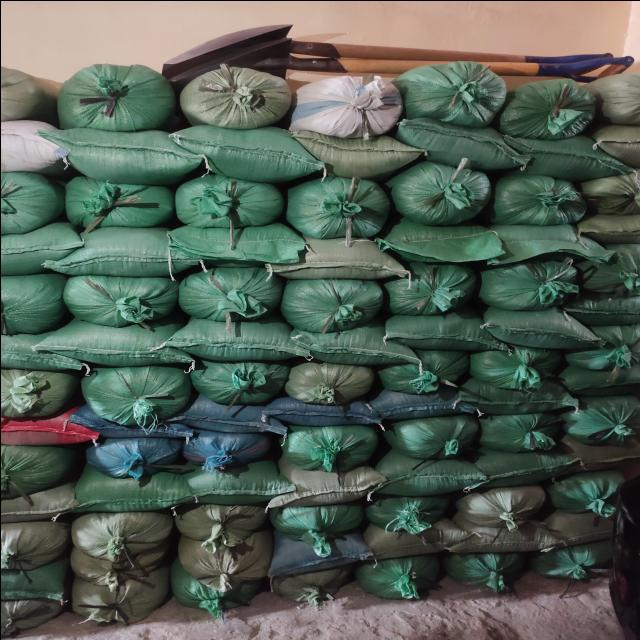Bistay sand: (55, 60, 169, 125), (289, 70, 402, 134), (83, 364, 193, 424), (505, 72, 596, 137), (407, 60, 498, 125), (190, 64, 285, 124), (181, 265, 285, 319), (73, 270, 177, 324), (69, 516, 171, 568), (59, 131, 193, 170), (167, 133, 302, 171), (39, 324, 191, 357), (159, 321, 311, 354), (482, 256, 579, 307), (494, 171, 587, 222), (72, 179, 165, 230), (61, 234, 181, 273), (174, 227, 294, 266), (280, 233, 400, 272), (395, 167, 488, 217), (294, 177, 387, 227), (178, 177, 271, 227), (72, 564, 160, 616), (289, 134, 423, 167), (387, 263, 473, 313), (289, 277, 375, 327), (197, 354, 285, 402), (396, 128, 518, 160), (489, 140, 611, 172), (473, 347, 556, 394), (294, 420, 377, 465), (186, 427, 269, 472), (95, 432, 178, 477), (1, 444, 84, 489), (542, 506, 635, 545), (395, 223, 501, 257), (1, 366, 70, 418), (83, 481, 195, 512), (301, 330, 411, 361), (385, 313, 495, 344), (1, 56, 50, 125), (385, 349, 461, 392), (282, 467, 390, 497), (170, 541, 265, 575), (482, 410, 558, 452), (394, 415, 470, 457), (565, 399, 640, 441), (1, 280, 64, 329), (167, 568, 247, 606), (275, 560, 355, 598), (188, 469, 288, 499), (290, 363, 364, 402), (1, 328, 71, 369), (378, 464, 480, 492), (6, 522, 62, 573), (555, 474, 632, 510), (473, 486, 550, 522), (376, 496, 453, 532), (275, 504, 352, 540), (185, 506, 262, 542), (444, 519, 544, 546), (483, 313, 579, 341), (490, 224, 585, 252), (494, 230, 589, 258), (587, 164, 640, 214), (3, 176, 52, 229), (363, 555, 429, 594), (474, 449, 569, 476), (3, 416, 89, 445), (87, 416, 173, 445), (196, 400, 282, 429), (277, 398, 363, 427), (377, 391, 463, 420), (470, 388, 556, 417), (7, 565, 70, 604), (1, 231, 80, 261), (2, 487, 78, 518), (1, 123, 50, 169), (467, 547, 533, 581), (542, 545, 608, 579), (567, 443, 640, 473), (564, 358, 640, 386), (2, 419, 90, 443), (579, 255, 640, 288), (580, 210, 640, 243), (371, 527, 451, 551), (279, 539, 359, 563), (563, 295, 640, 319), (572, 322, 640, 349), (604, 74, 640, 118), (596, 125, 640, 160)
